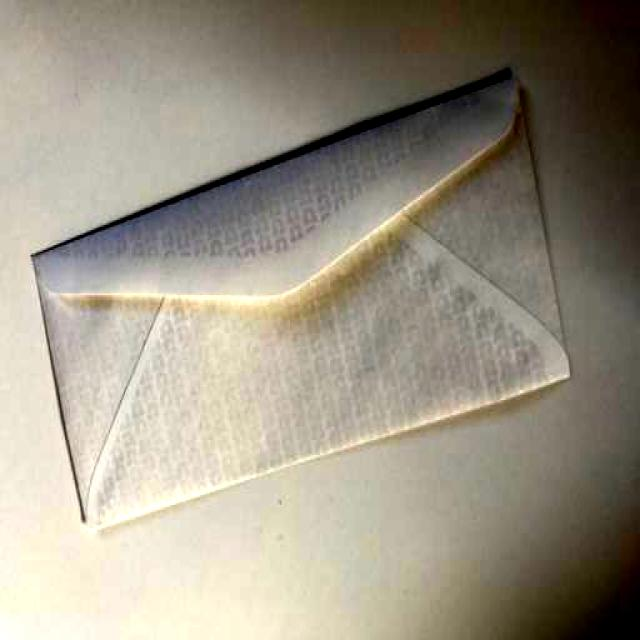paper: (23, 66, 583, 548)
